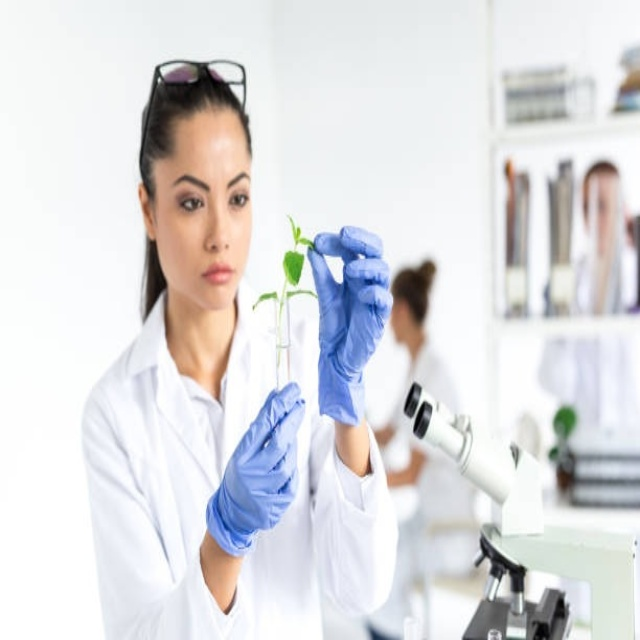Guantes: (205, 380, 308, 556), (309, 225, 392, 427)
Sin_gafas: (165, 171, 255, 218)
Sin_mascara: (196, 256, 235, 298)
